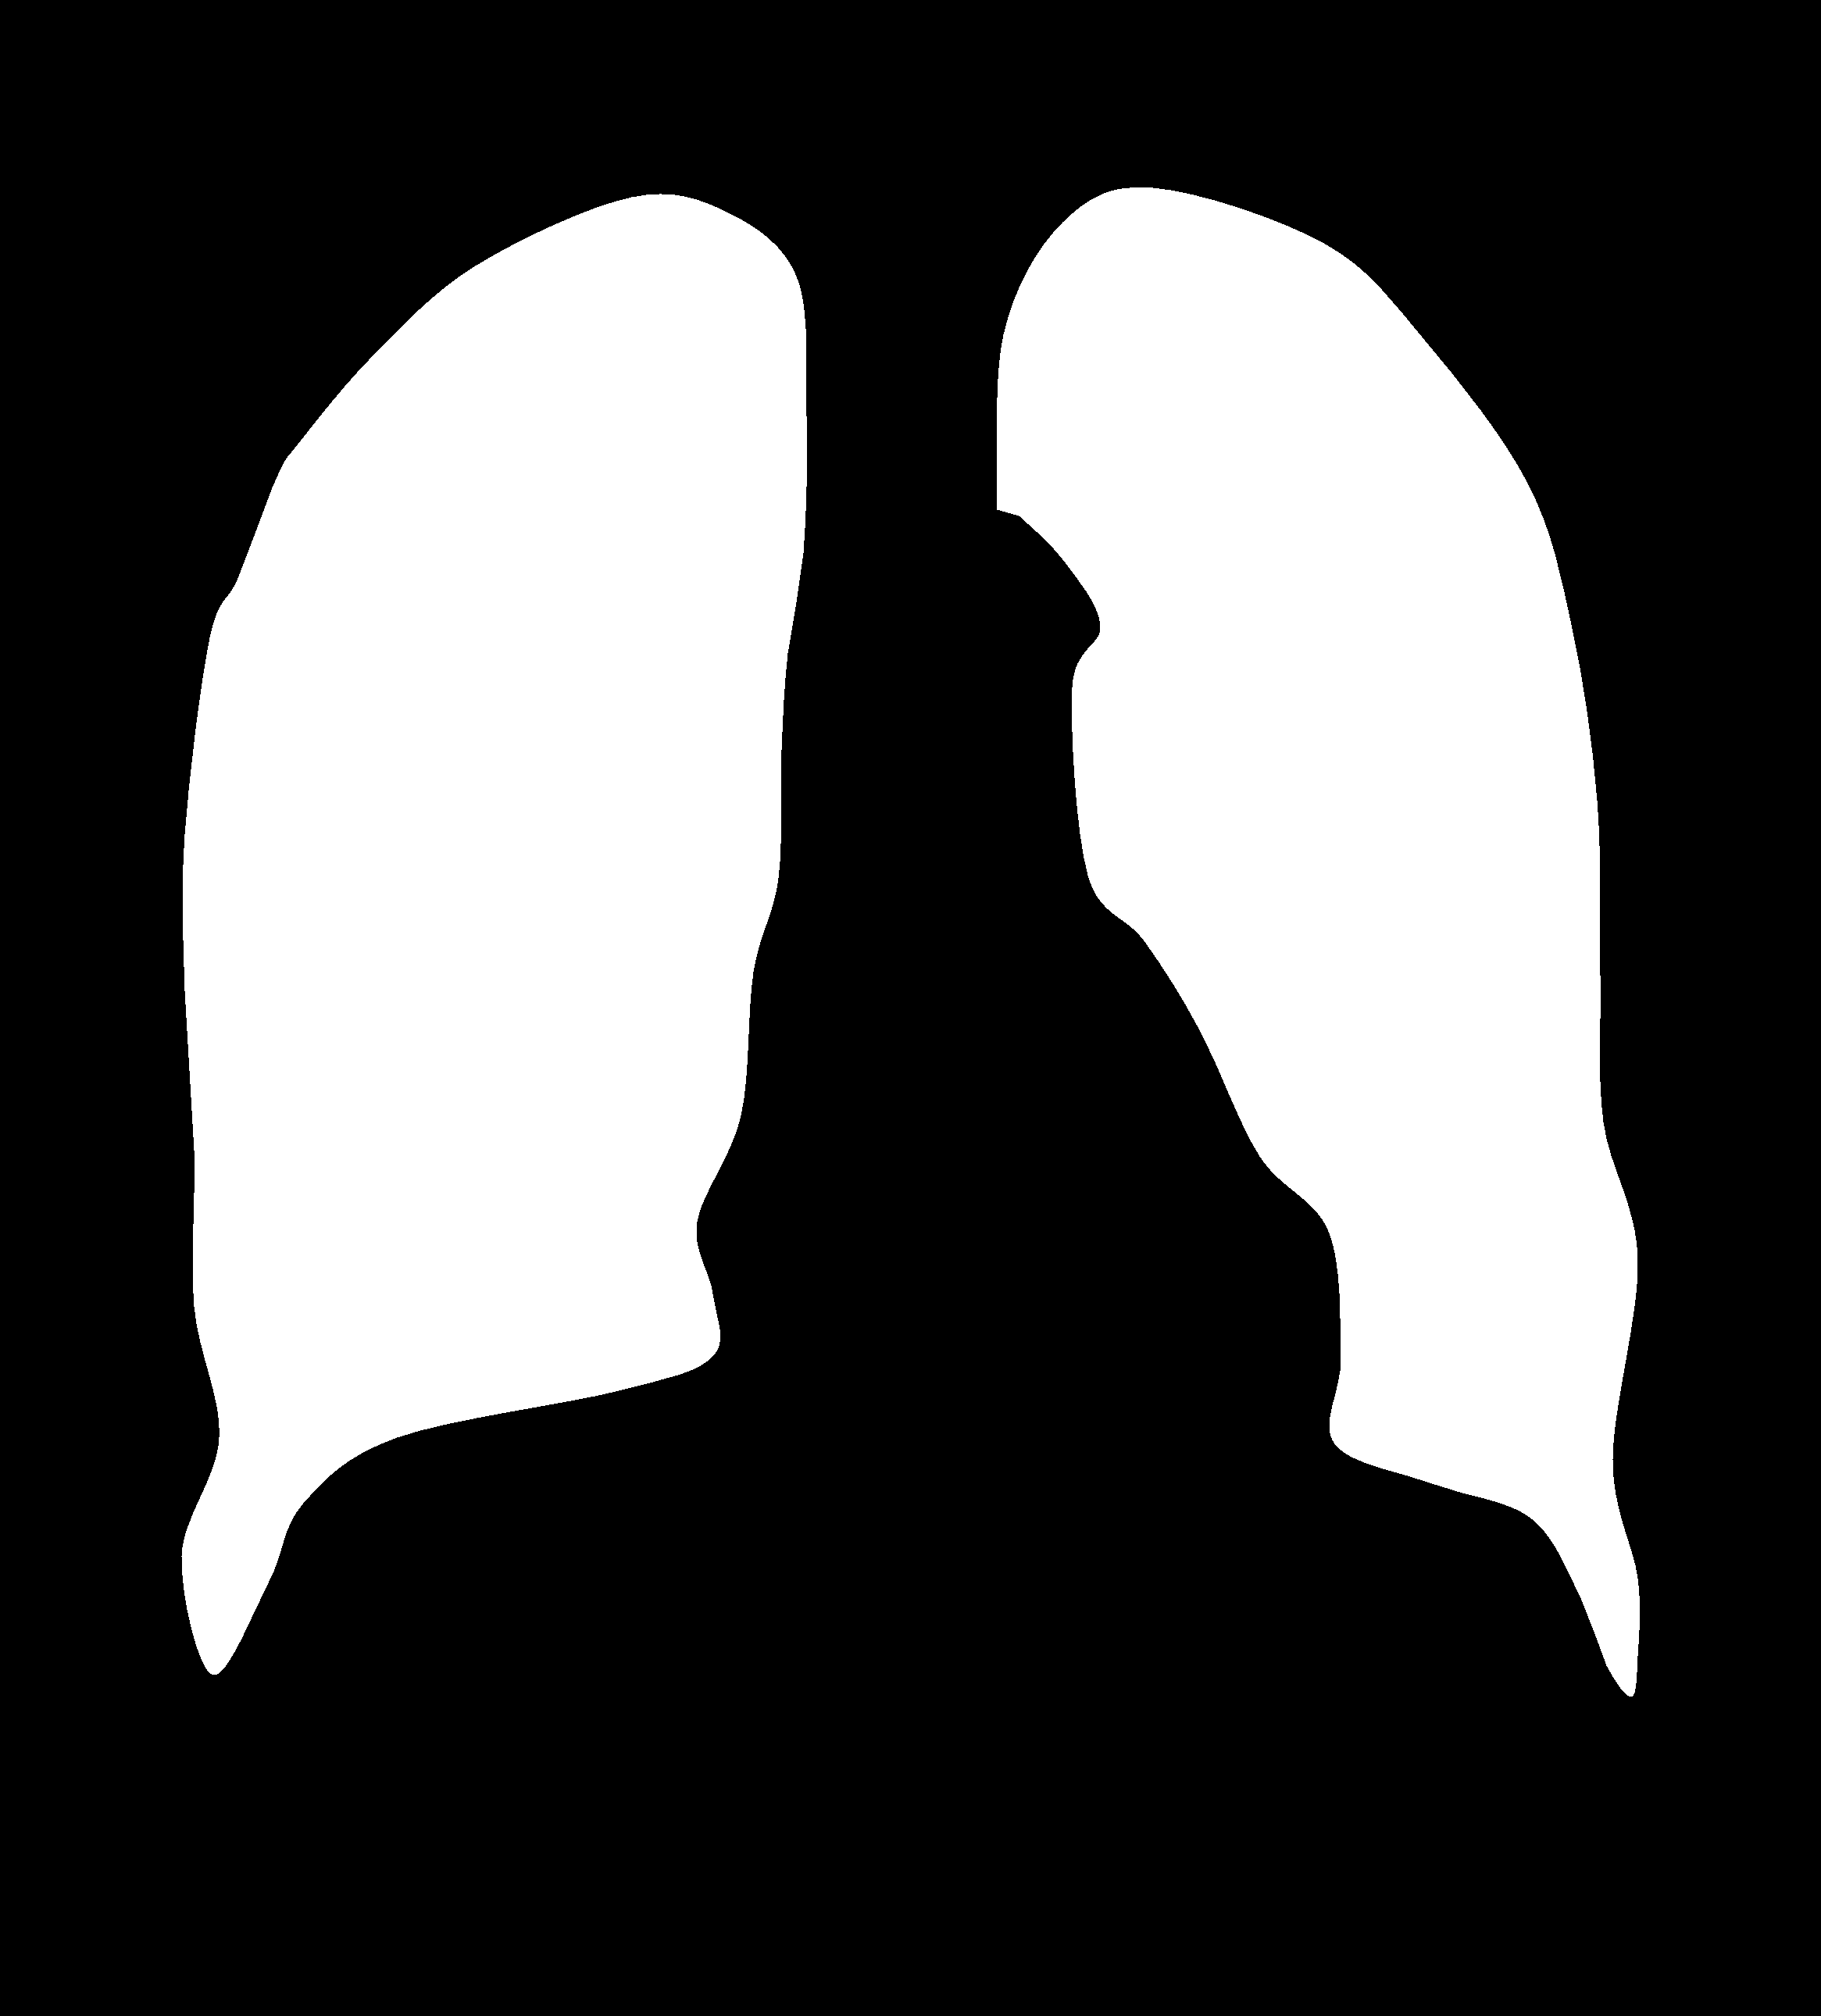heart: (694, 1015, 1359, 1514)
left_lung: (186, 193, 806, 1679)
right_lung: (997, 188, 1640, 1695)
